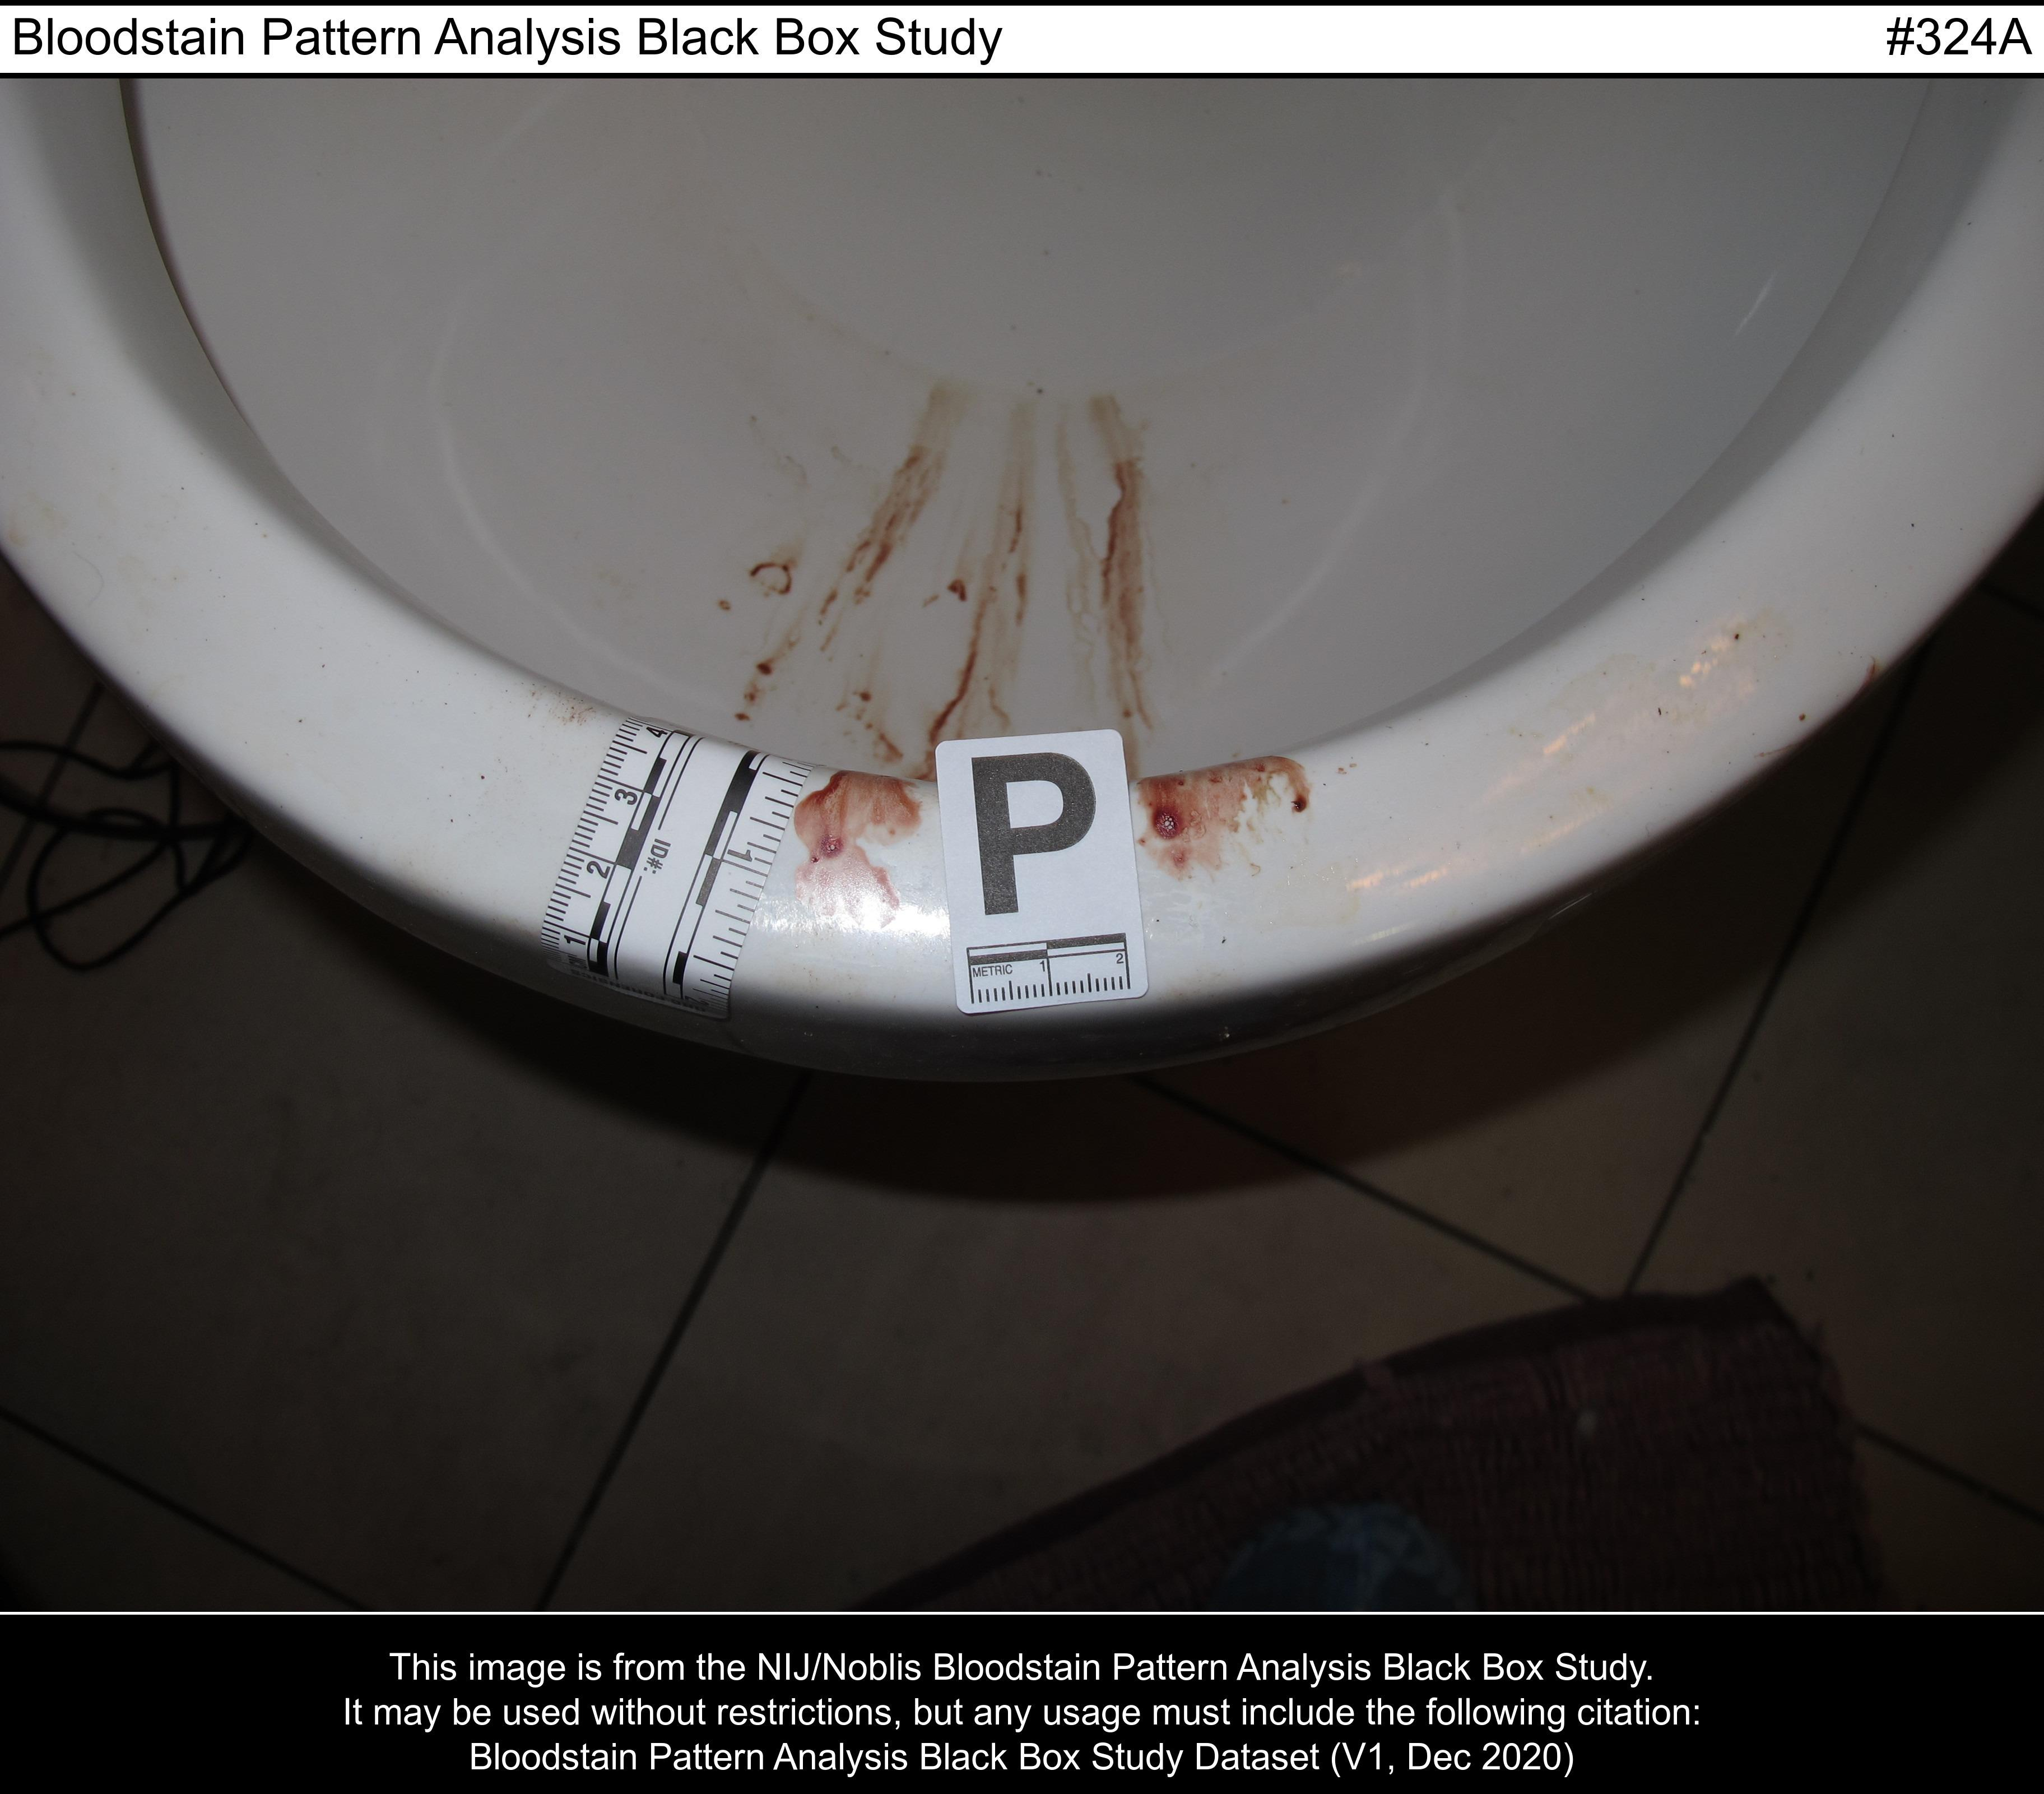Passive: (659, 356, 1356, 986)
